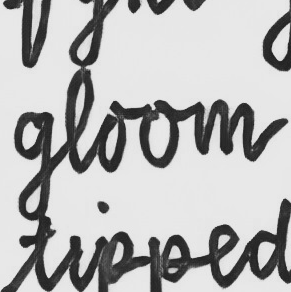g: (11, 108, 57, 223)
l: (62, 64, 95, 177)
m: (190, 97, 255, 157)
o: (136, 101, 181, 171), (95, 103, 129, 176)
